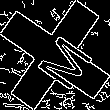M_NW: (21, 22, 89, 88)
